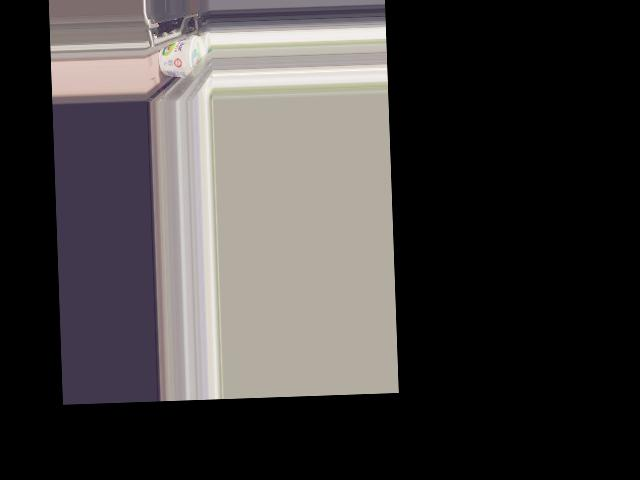cotage: (159, 37, 206, 79)
